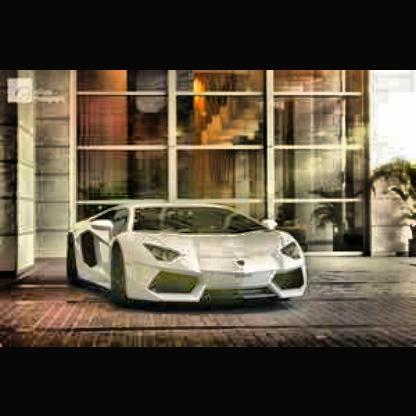Lamborghini Aventador Coupe 2012: (68, 199, 312, 304)
